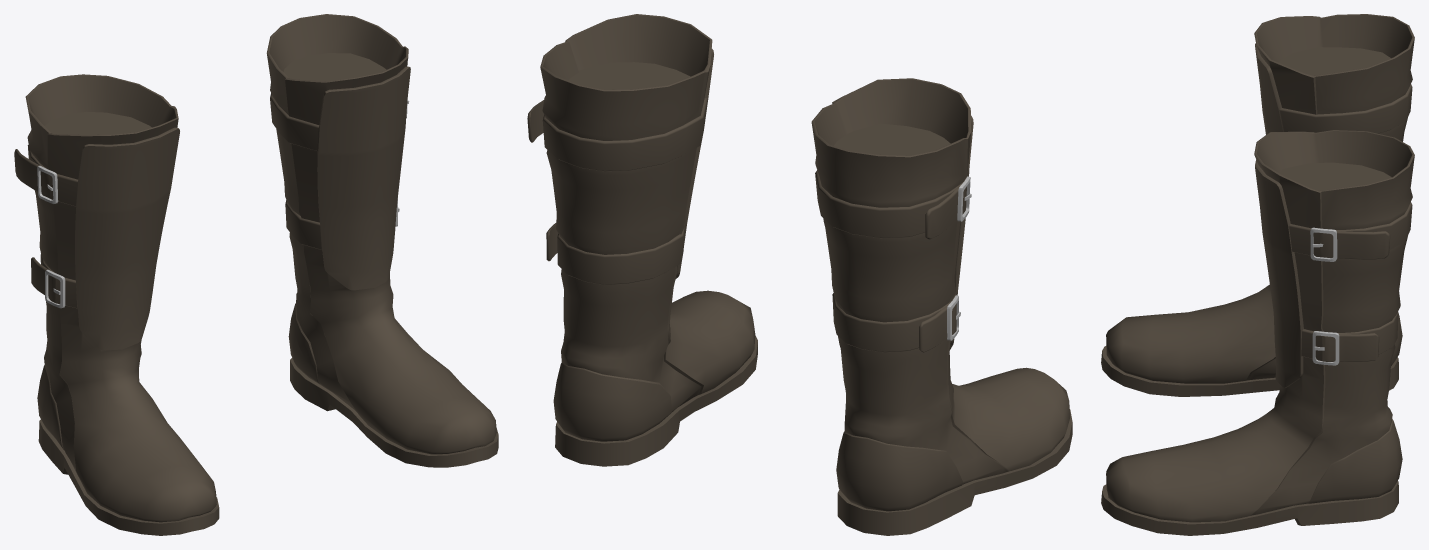
The model's file is highlander-boots-01.fbx.
The picture shows the model from 3 angles, left to right: view 1: azimuth 30°, elevation 25°; view 2: azimuth 150°, elevation 25°; view 3: azimuth 270°, elevation 25°; orthographic projection. The views are drawn at different scales.
Visible parts, largest first — view 1: boots_geo; view 2: boots_geo; view 3: boots_geo.
Boxes of the visible parts, x1,y1,x2,y2 form: boots_geo: [14, 14, 498, 535]; boots_geo: [527, 14, 1072, 535]; boots_geo: [1101, 14, 1414, 535].
Size of the model in its own units: 44.47 by 38.06 by 31.1.
